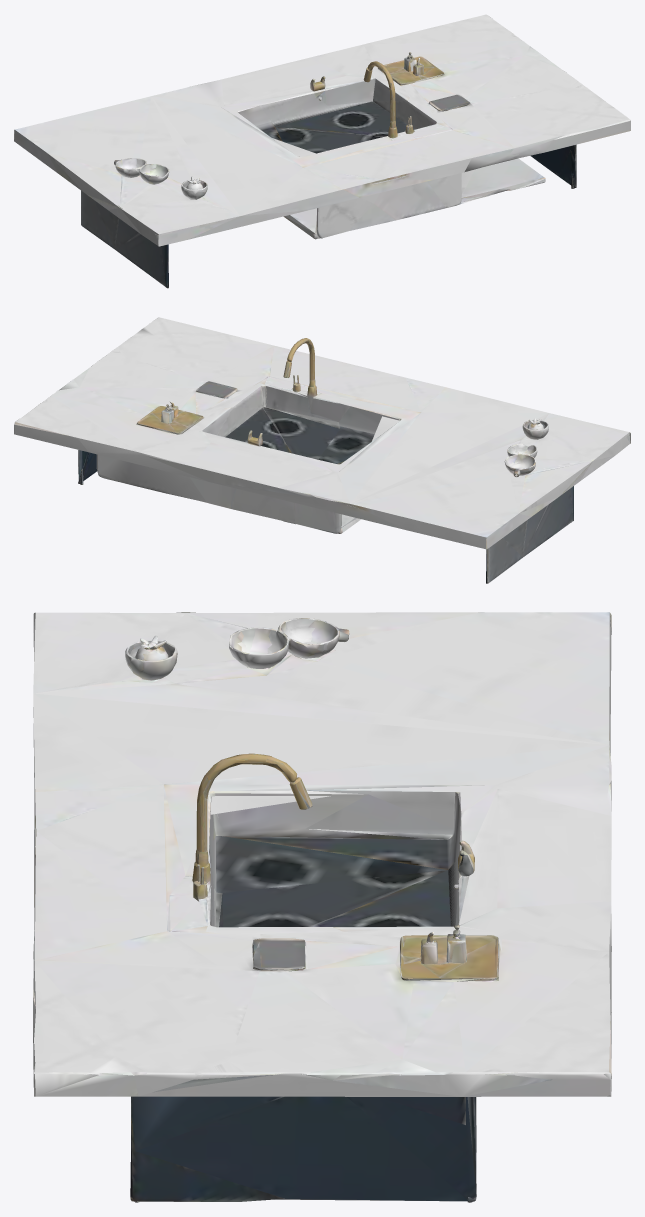
Rendered from kitchen-island-v1.glb.
The picture shows the model from 3 angles, top to bottom: view 1: azimuth 30°, elevation 25°; view 2: azimuth 150°, elevation 25°; view 3: azimuth 270°, elevation 25°; orthographic projection. The views are drawn at different scales.
Bounding box in the file's own units: 3 × 0.8732 × 1.59.
Materials: 1 (1 with a texture image).
